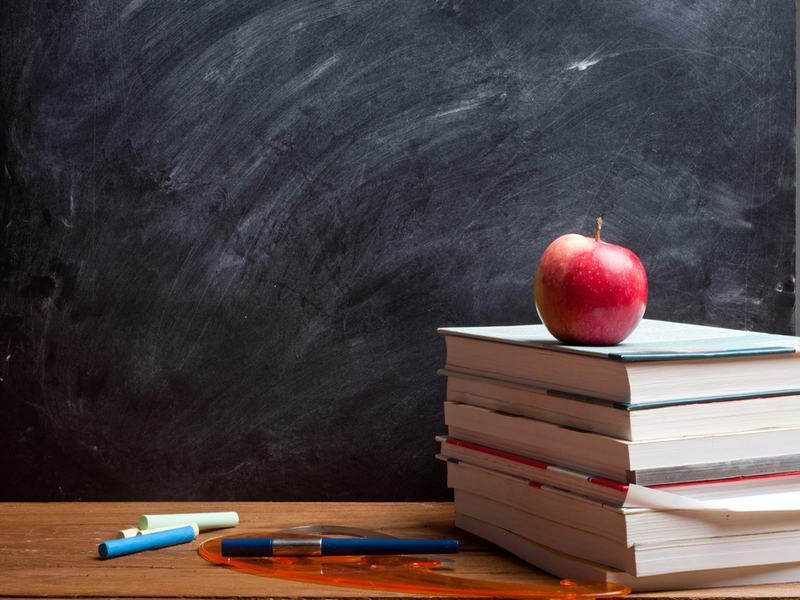apple: (543, 220, 654, 342)
